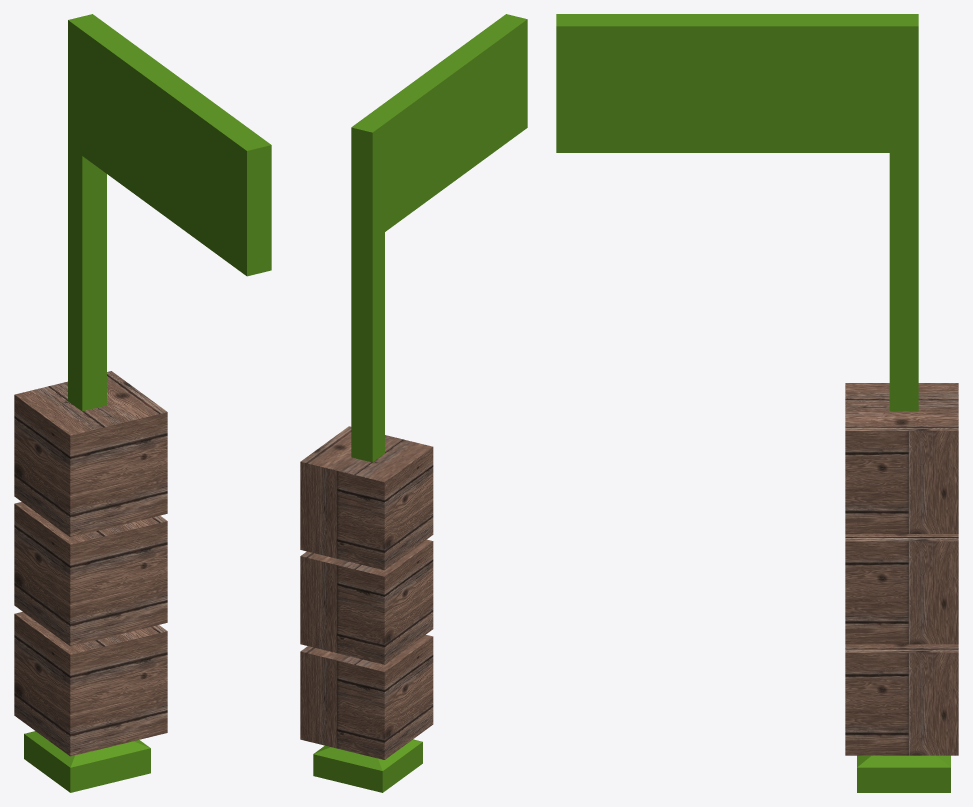
3 views of the same model, side by side, from view 1: azimuth 30°, elevation 25°; view 2: azimuth 150°, elevation 25°; view 3: azimuth 270°, elevation 25° (orthographic). The views are drawn at different scales.
Parts seen in each view (by area): view 1: Semaphore, Cube.002, Cube, Cube.001; view 2: Semaphore, Cube.002, Cube, Cube.001; view 3: Semaphore, Cube.002, Cube, Cube.001.
Part boxes in pixels (x1=…): Semaphore: x1=24, y1=14, x2=271, y2=792; Cube.002: x1=14, y1=371, x2=167, y2=537; Cube: x1=14, y1=611, x2=167, y2=756; Cube.001: x1=14, y1=502, x2=167, y2=646; Semaphore: x1=313, y1=14, x2=527, y2=792; Cube.002: x1=300, y1=426, x2=433, y2=570; Cube: x1=300, y1=635, x2=433, y2=759; Cube.001: x1=300, y1=539, x2=433, y2=664; Semaphore: x1=556, y1=14, x2=950, y2=792; Cube.002: x1=845, y1=383, x2=958, y2=533; Cube: x1=845, y1=644, x2=958, y2=755; Cube.001: x1=845, y1=534, x2=958, y2=644.
Size of the model in its own units: 7.26 by 53.06 by 25.71.
